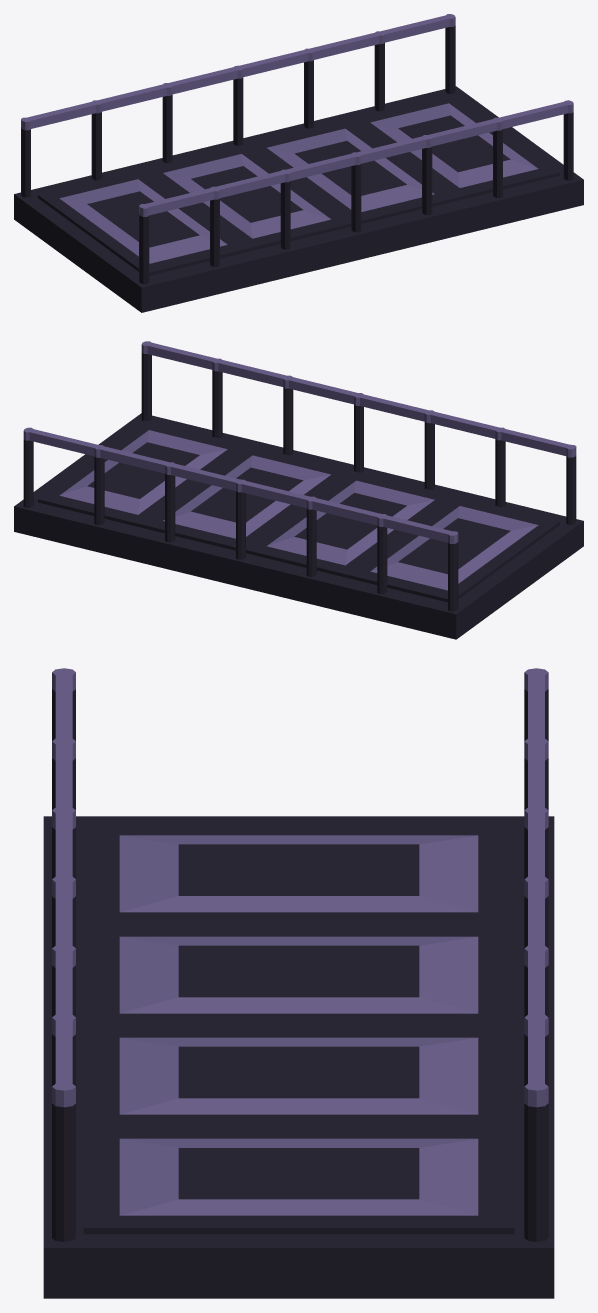
File: Bridge.fbx
The picture shows the model from 3 angles, top to bottom: view 1: azimuth 30°, elevation 25°; view 2: azimuth 150°, elevation 25°; view 3: azimuth 270°, elevation 25°; orthographic projection. The views are drawn at different scales.
Parts seen in each view (by area): view 1: Bridge; view 2: Bridge; view 3: Bridge.
Boxes of the visible parts, <box> form: Bridge: <box>14,14,583,312</box>; Bridge: <box>14,341,583,639</box>; Bridge: <box>43,668,554,1298</box>.
Bounding box in the file's own units: 6 × 1.5 × 3.
